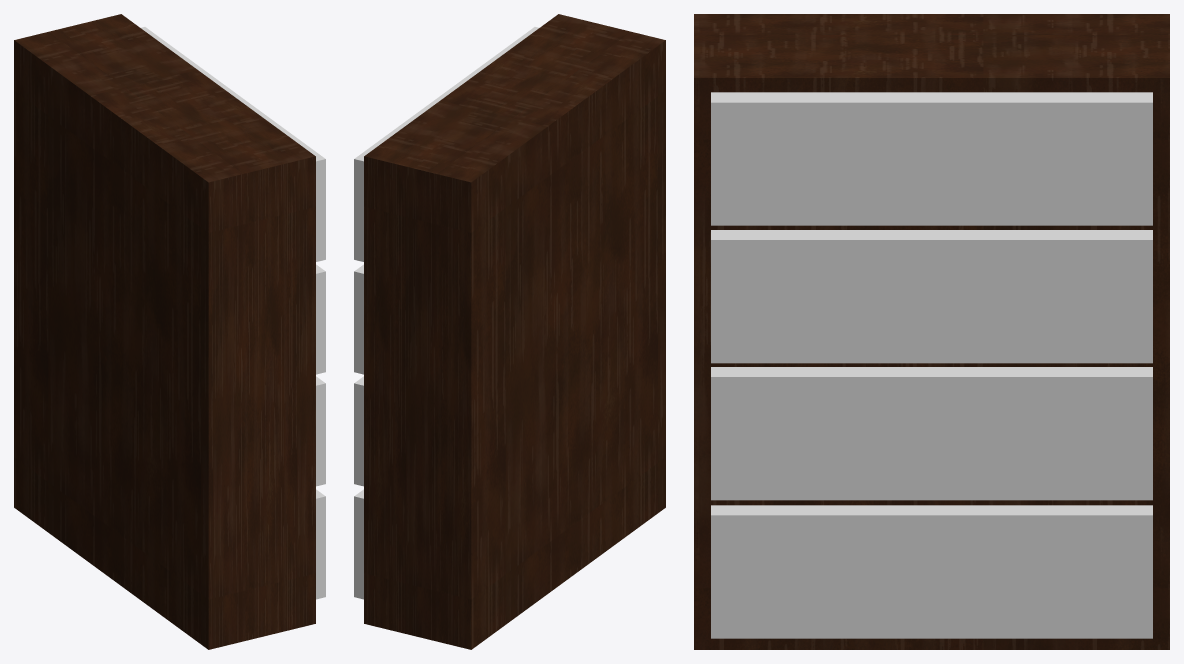
The model's file is polka na ksiazki.fbx.
The picture shows the model from 3 angles, left to right: view 1: azimuth 30°, elevation 25°; view 2: azimuth 150°, elevation 25°; view 3: azimuth 270°, elevation 25°; orthographic projection. The views are drawn at different scales.
Parts seen in each view (by area): view 1: Cube, Cube.004, Cube.003, Cube.001, Cube.002; view 2: Cube, Cube.004, Cube.003, Cube.001, Cube.002; view 3: Cube, Cube.001, Cube.002, Cube.003, Cube.004.
Boxes of the visible parts, x1=… form: Cube: x1=14, y1=14, x2=315, y2=649; Cube.004: x1=141, y1=27, x2=325, y2=261; Cube.003: x1=316, y1=489, x2=325, y2=599; Cube.001: x1=316, y1=264, x2=325, y2=374; Cube.002: x1=316, y1=376, x2=325, y2=486; Cube: x1=364, y1=14, x2=665, y2=649; Cube.004: x1=354, y1=27, x2=538, y2=261; Cube.003: x1=354, y1=489, x2=363, y2=599; Cube.001: x1=354, y1=264, x2=363, y2=374; Cube.002: x1=354, y1=376, x2=363, y2=486; Cube: x1=694, y1=14, x2=1169, y2=649; Cube.001: x1=711, y1=230, x2=1152, y2=363; Cube.002: x1=711, y1=367, x2=1152, y2=500; Cube.003: x1=711, y1=505, x2=1152, y2=638; Cube.004: x1=711, y1=92, x2=1152, y2=225.
Bounding box in the file's own units: 231 × 833 × 628.
